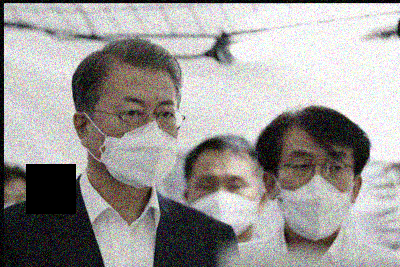with_mask: (94, 95, 179, 189), (275, 147, 352, 242), (186, 172, 256, 236)
